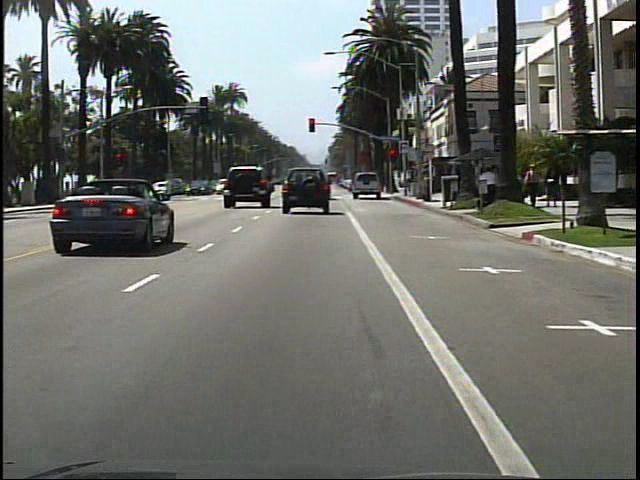person: (477, 164, 501, 209), (523, 160, 543, 211)
